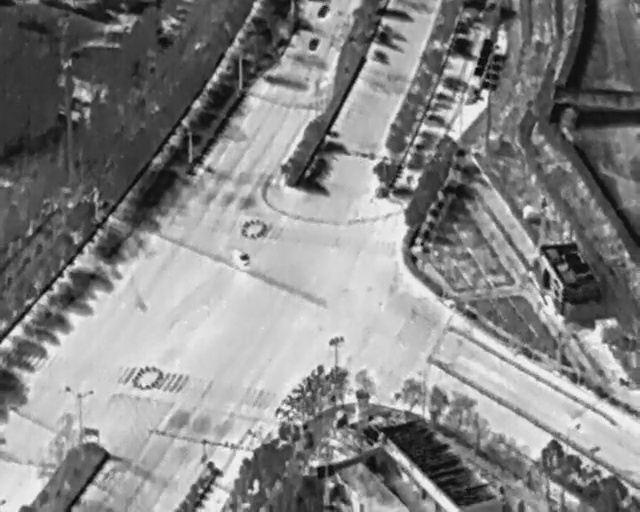Car: (231, 247, 252, 267), (314, 3, 331, 21), (306, 35, 320, 53)
